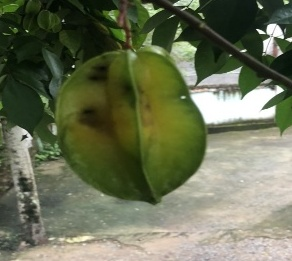Khe: (46, 42, 218, 209)
